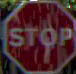Stop: (2, 0, 75, 73)
